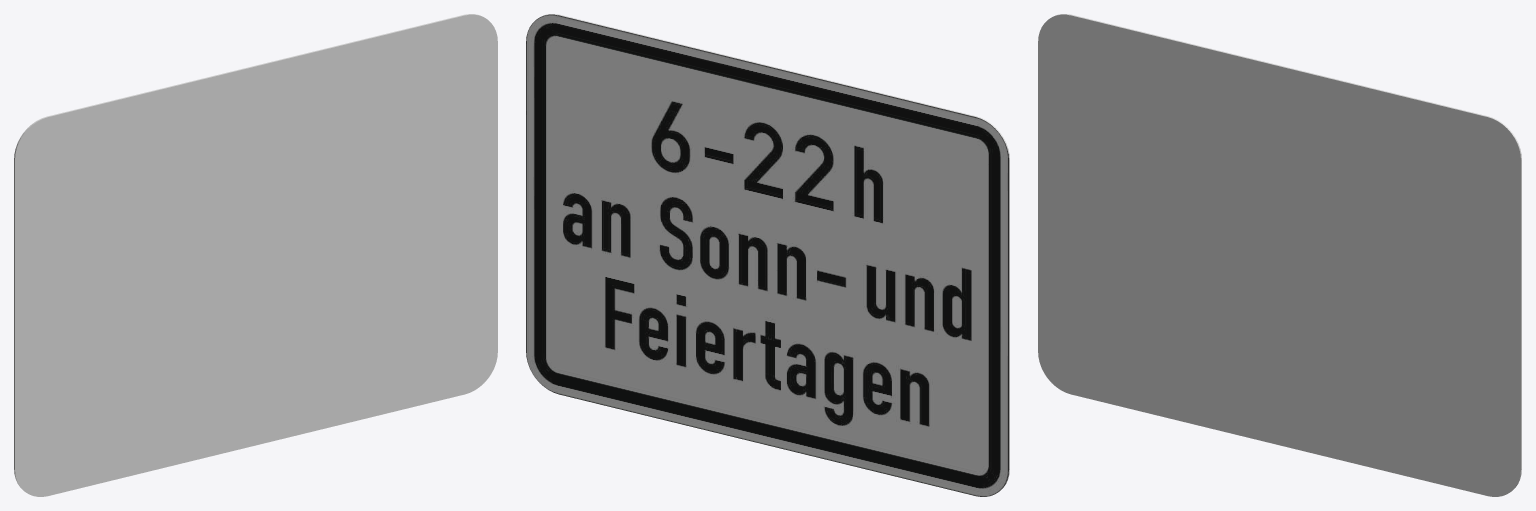
3 views of the same model, side by side, from view 1: azimuth 30°, elevation 25°; view 2: azimuth 150°, elevation 25°; view 3: azimuth 330°, elevation 25° (orthographic).
Visible parts, largest first — view 1: Plane; view 2: Plane; view 3: Plane.
Boxes of the visible parts, <box> form: Plane: <box>14,14,497,496</box>; Plane: <box>526,14,1009,496</box>; Plane: <box>1038,14,1521,496</box>.
Bounding box in the file's own units: 0.6 × 0.45 × 0.002.
Materials: 2 (1 with a texture image).
